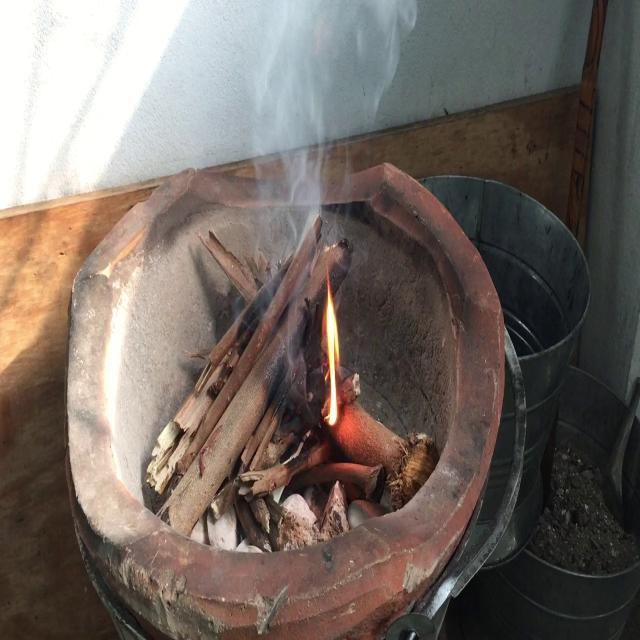Fire: (318, 282, 348, 430)
Smoke: (250, 0, 335, 276)
